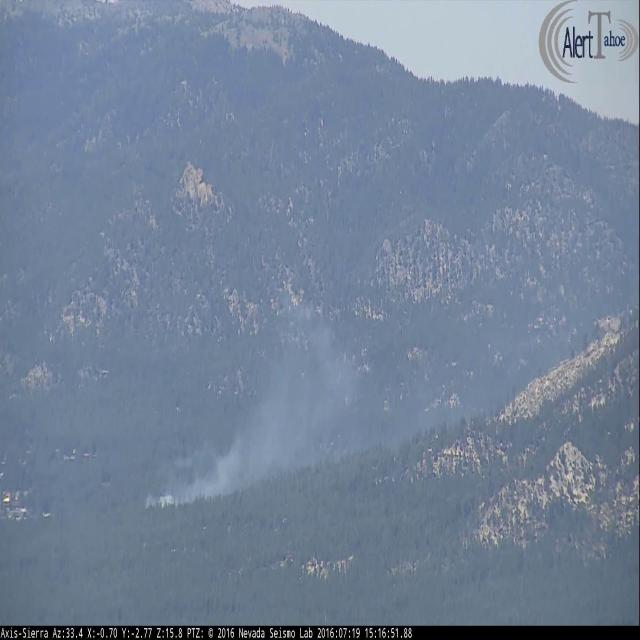smoke: (144, 286, 582, 510)
